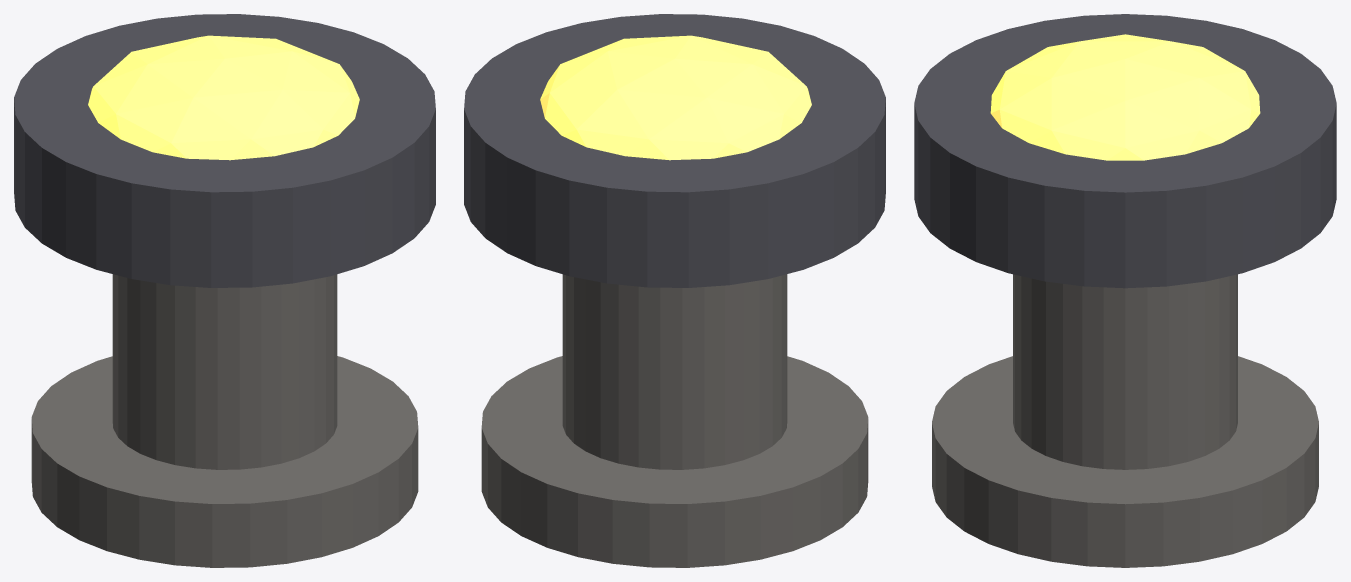
The model's file is stone_brazier.glb.
3 views of the same model, side by side, from view 1: azimuth 30°, elevation 25°; view 2: azimuth 150°, elevation 25°; view 3: azimuth 270°, elevation 25° (orthographic).
Parts seen in each view (by area): view 1: Cylinder.002, Cylinder, Cylinder.001, Icosphere; view 2: Cylinder.002, Cylinder, Cylinder.001, Icosphere; view 3: Cylinder.002, Cylinder, Cylinder.001, Icosphere.
Part boxes in pixels (x1,y1,x2,y2): Cylinder.002: (14,14,435,287); Cylinder: (31,356,418,567); Cylinder.001: (112,274,337,469); Icosphere: (88,35,359,160); Cylinder.002: (464,14,885,287); Cylinder: (481,356,868,567); Cylinder.001: (562,274,787,469); Icosphere: (540,35,811,160); Cylinder.002: (914,14,1336,288); Cylinder: (932,356,1318,567); Cylinder.001: (1013,274,1237,469); Icosphere: (990,34,1260,160).
Bounding box in the file's own units: 1.2 × 1.34 × 1.2.
